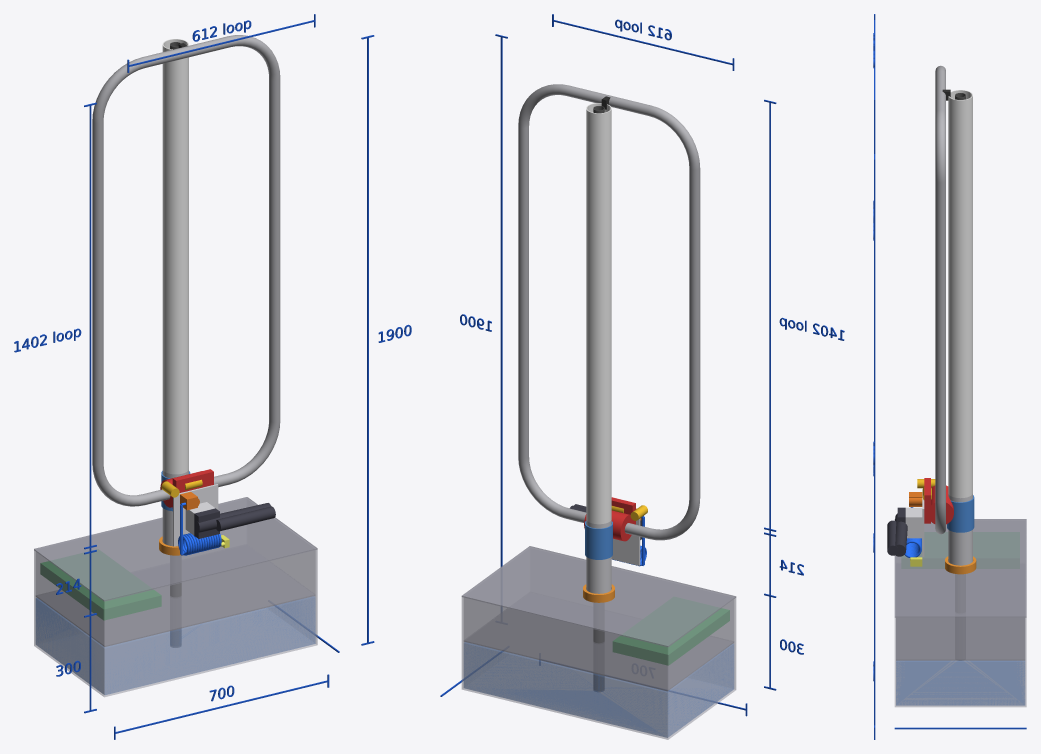
Rendered from unit-v3-dimensioned-v3.glb.
The picture shows the model from 3 angles, left to right: view 1: azimuth 30°, elevation 25°; view 2: azimuth 150°, elevation 25°; view 3: azimuth 270°, elevation 25°; orthographic projection. The views are drawn at different scales.
Parts seen in each view (by area): view 1: tank, tank_water, track_loop, lid, growing_pipe, shelf, dimensions, seedling_tray, cart_arm_folded, cart_plate_battery, cart_sample_tubing_coil, spine_tube (+1 smaller); view 2: tank, lid, tank_water, track_loop, growing_pipe, shelf, dimensions, seedling_tray, cleanout_section, sleeve, cart_sleeve_top_hand, cart_plate_battery (+1 smaller); view 3: tank, lid, growing_pipe, tank_water, shelf, track_loop, seedling_tray, dimensions, cleanout_section, cart_arm_folded, sleeve, cart_sleeve_top_hand (+4 smaller).
Part boxes in pixels (x1,y1,x2,y2): tank: (34, 502, 317, 697); tank_water: (36, 596, 315, 694); track_loop: (92, 35, 280, 506); lid: (34, 497, 317, 601); growing_pipe: (162, 39, 188, 474); shelf: (36, 561, 315, 646); dimensions: (14, 14, 411, 739); seedling_tray: (40, 550, 161, 620); cart_arm_folded: (194, 503, 275, 538); cart_plate_battery: (173, 484, 218, 546); cart_sample_tubing_coil: (178, 502, 221, 555); spine_tube: (170, 42, 181, 647); tank: (461, 548, 736, 739); lid: (461, 546, 736, 647); tank_water: (464, 642, 733, 737); track_loop: (518, 84, 700, 540); growing_pipe: (586, 103, 611, 524); shelf: (464, 608, 733, 690); dimensions: (440, 14, 844, 716); seedling_tray: (613, 597, 729, 665); cleanout_section: (586, 520, 611, 593); sleeve: (585, 521, 612, 559); cart_sleeve_top_hand: (584, 497, 635, 541); cart_plate_battery: (611, 518, 640, 565); tank: (894, 557, 1026, 707); lid: (894, 519, 1026, 617); growing_pipe: (948, 90, 972, 498); tank_water: (896, 661, 1024, 705); shelf: (896, 618, 1024, 660); track_loop: (935, 65, 945, 534); seedling_tray: (902, 532, 1019, 568); dimensions: (873, 14, 1026, 739); cleanout_section: (948, 494, 972, 565); cart_arm_folded: (887, 507, 907, 556); sleeve: (947, 495, 974, 532); cart_sleeve_top_hand: (924, 478, 953, 524).
Bounding box in the file's own units: 1302 × 2162 × 464.
